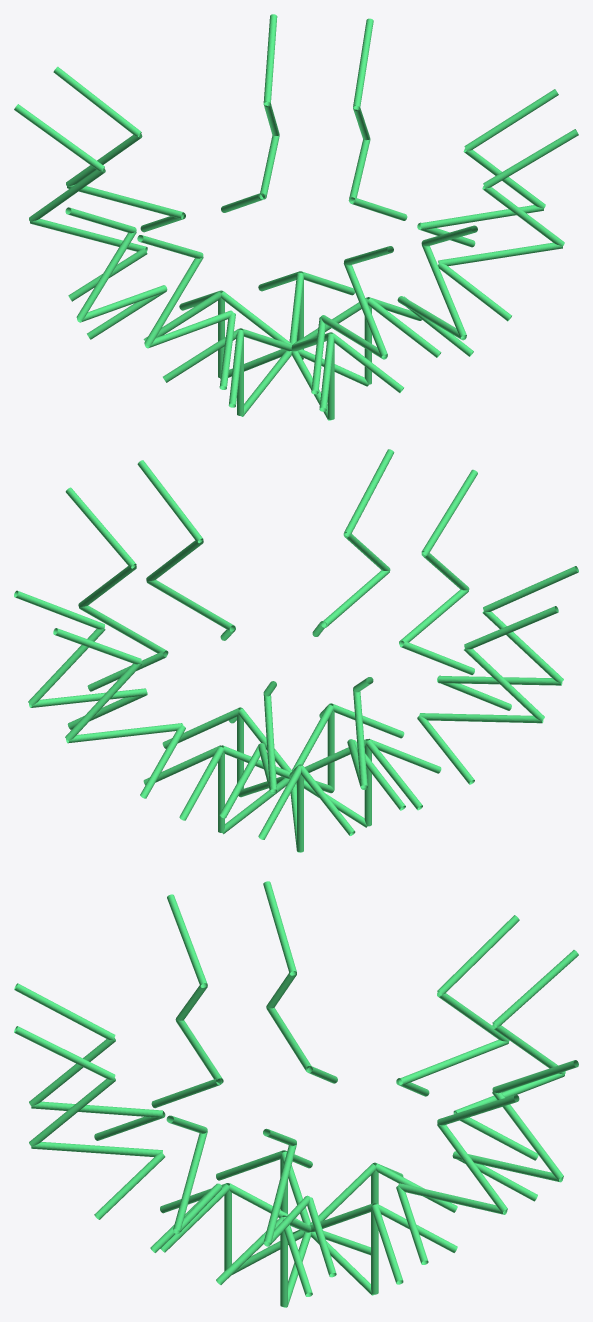
The model's file is trinexus4_2c.glb.
The picture shows the model from 3 angles, top to bottom: view 1: azimuth 30°, elevation 25°; view 2: azimuth 150°, elevation 25°; view 3: azimuth 270°, elevation 25°; orthographic projection. The views are drawn at different scales.
Visible parts, largest first — view 1: Mesh_122.005; view 2: Mesh_122.005; view 3: Mesh_122.005.
Part boxes in pixels (x1,y1,x2,y2): Mesh_122.005: (14,14,578,420); Mesh_122.005: (14,449,578,852); Mesh_122.005: (14,881,578,1307).
Size of the model in its own units: 9.34 by 4.7 by 8.9.
